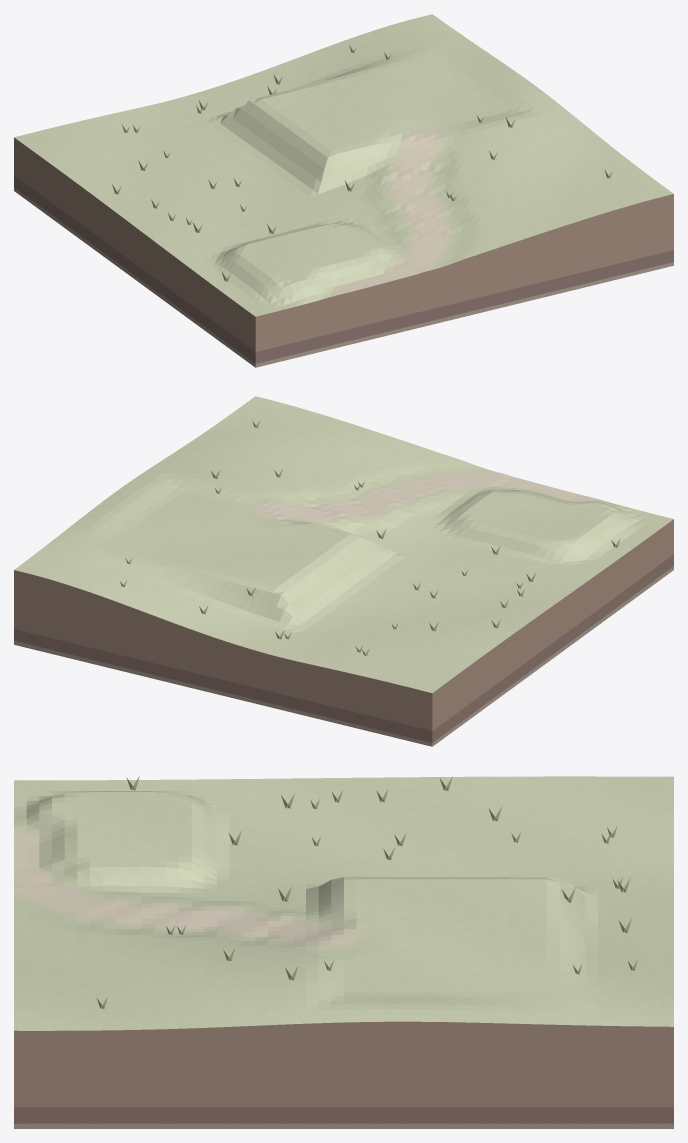
3 renders of one model, top to bottom at view 1: azimuth 30°, elevation 25°; view 2: azimuth 150°, elevation 25°; view 3: azimuth 270°, elevation 25°, orthographic. The views are drawn at different scales.
Visible parts, largest first — view 1: proc_ground, proc_skirt, proc_grass; view 2: proc_ground, proc_skirt, proc_grass; view 3: proc_ground, proc_skirt, proc_grass.
Boxes of the visible parts, x1,y1,x2,y2 form: proc_ground: [14, 14, 673, 316]; proc_skirt: [14, 137, 673, 367]; proc_grass: [112, 45, 612, 281]; proc_ground: [14, 396, 673, 693]; proc_skirt: [14, 519, 673, 746]; proc_grass: [120, 420, 620, 655]; proc_ground: [14, 776, 673, 1030]; proc_skirt: [14, 1021, 673, 1128]; proc_grass: [97, 776, 637, 1008].
Size of the model in its own units: 8 by 1.62 by 8.
